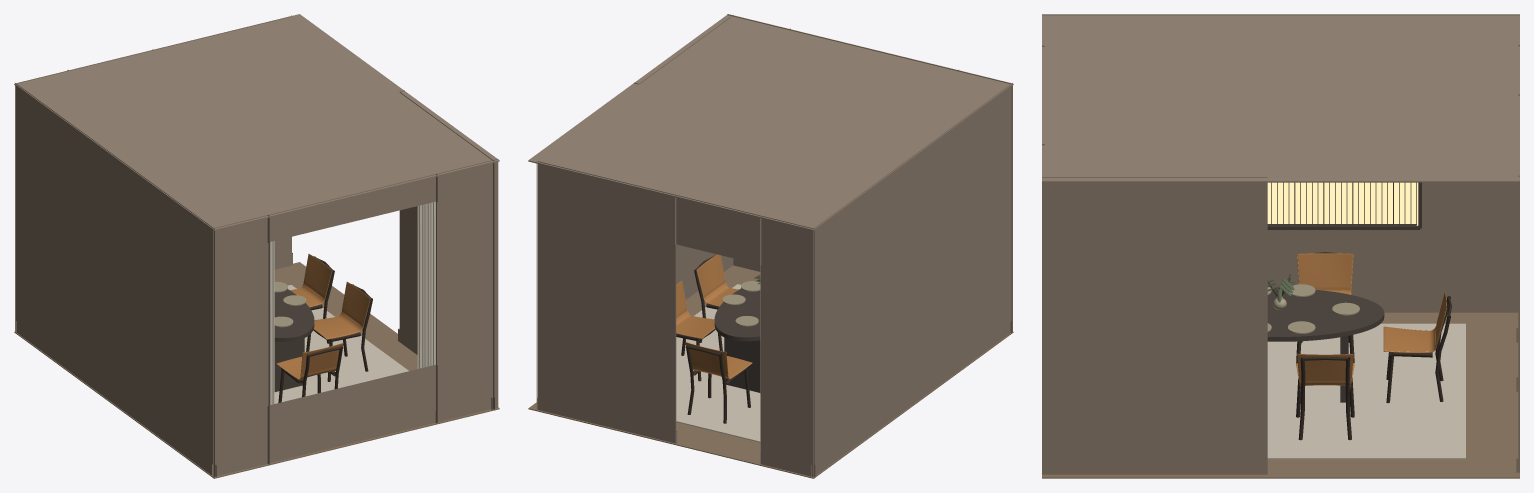
File: dining-1.glb
3 views of the same model, side by side, from view 1: azimuth 30°, elevation 25°; view 2: azimuth 150°, elevation 25°; view 3: azimuth 270°, elevation 25° (orthographic). The views are drawn at different scales.
Visible parts, largest first — view 1: DESIGN | dining removable wall finish, DESIGN | dining ceiling finish, DESIGN | dining floor finish, DESIGN | Dining ground, DESIGN | Dining linen edge.001, DESIGN | Required Isadora dining chair 3, DESIGN | Required Isadora dining chair 5, DESIGN | Required Isadora dining chair 4, DESIGN | Dining table top, DESIGN | Dining linen edge, DESIGN | Dining table trestle; view 2: DESIGN | dining removable wall finish, DESIGN | dining ceiling finish, DESIGN | Dining ground, DESIGN | dining floor finish, DESIGN | Required Isadora dining chair 6, DESIGN | Dining table top, DESIGN | Required Isadora dining chair 3, DESIGN | Required Isadora dining chair 4, DESIGN | Dining table trestle.001; view 3: DESIGN | dining removable wall finish, DESIGN | dining ceiling finish, DESIGN | Dining ground, DESIGN | dining floor finish, DESIGN | Dining long craft screen diffuse backing, DESIGN | Dining table top, DESIGN | Required Isadora dining chair 6, DESIGN | Kumiko | Dining long craft screen, DESIGN | Required Isadora dining chair 4, DESIGN | Required Isadora dining chair 2.
Boxes of the visible parts, x1,y1,x2,y2 form: DESIGN | dining removable wall finish: (15,15,498,477); DESIGN | dining ceiling finish: (14,14,499,230); DESIGN | dining floor finish: (14,262,499,478); DESIGN | Dining ground: (274,285,408,403); DESIGN | Dining linen edge.001: (417,201,435,368); DESIGN | Required Isadora dining chair 3: (306,281,372,381); DESIGN | Required Isadora dining chair 5: (276,342,343,402); DESIGN | Required Isadora dining chair 4: (290,254,334,343); DESIGN | Dining table top: (274,289,314,341); DESIGN | Dining linen edge: (268,241,274,405); DESIGN | Dining table trestle: (274,338,304,391); DESIGN | dining removable wall finish: (536,14,1012,477); DESIGN | dining ceiling finish: (528,14,1013,230); DESIGN | Dining ground: (676,284,760,442); DESIGN | dining floor finish: (528,265,1013,478); DESIGN | Required Isadora dining chair 6: (685,342,752,423); DESIGN | Dining table top: (714,281,760,341); DESIGN | Required Isadora dining chair 3: (694,254,738,342); DESIGN | Required Isadora dining chair 4: (676,281,722,381); DESIGN | Dining table trestle.001: (724,337,760,392); DESIGN | dining removable wall finish: (1042,14,1519,474); DESIGN | dining ceiling finish: (1042,15,1519,182); DESIGN | Dining ground: (1267,323,1465,459); DESIGN | dining floor finish: (1042,312,1519,478); DESIGN | Dining long craft screen diffuse backing: (1267,182,1418,225); DESIGN | Dining table top: (1267,288,1384,341); DESIGN | Required Isadora dining chair 6: (1383,292,1451,403); DESIGN | Kumiko | Dining long craft screen: (1267,182,1421,229); DESIGN | Required Isadora dining chair 4: (1296,353,1354,440); DESIGN | Required Isadora dining chair 2: (1296,252,1354,364).
Bounding box in the file's own units: 3.28 × 2.74 × 3.98.
